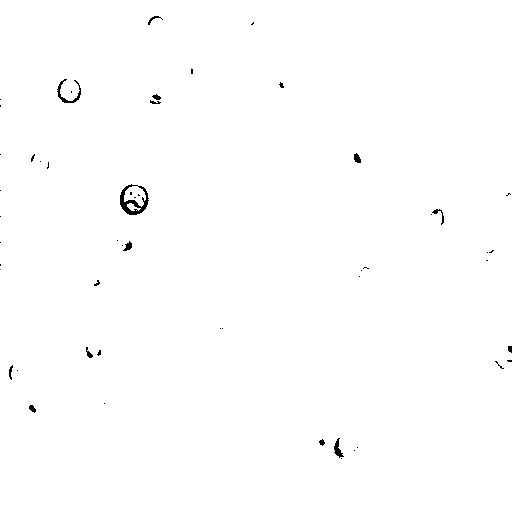micro-algae: (145, 21, 231, 107), (113, 266, 147, 301), (118, 184, 150, 217), (89, 385, 122, 415), (343, 143, 372, 177), (177, 55, 206, 85), (56, 77, 83, 105), (236, 3, 262, 32), (273, 65, 297, 96), (335, 435, 361, 462), (481, 249, 507, 276), (308, 427, 334, 453), (353, 261, 379, 287), (493, 337, 512, 370), (84, 337, 105, 363), (29, 151, 52, 174), (20, 398, 43, 421), (141, 495, 171, 512), (111, 235, 134, 255), (426, 207, 445, 229), (80, 272, 102, 289), (500, 186, 512, 211), (9, 364, 22, 383), (149, 15, 165, 30)
